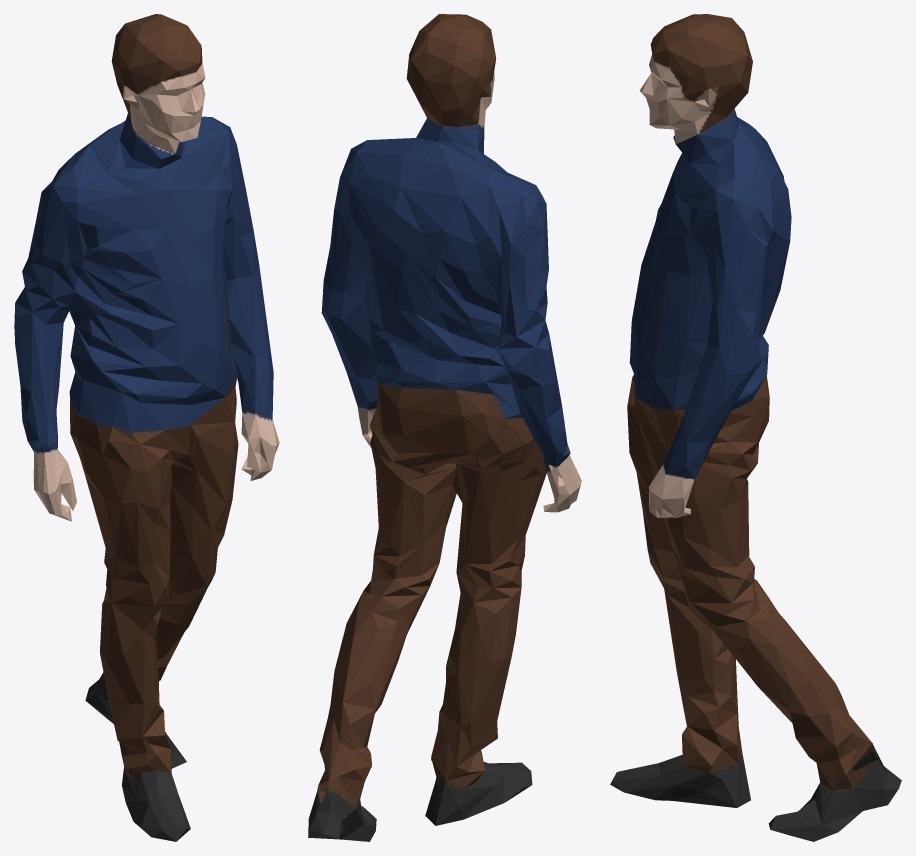
3 renders of one model, left to right at view 1: azimuth 30°, elevation 25°; view 2: azimuth 150°, elevation 25°; view 3: azimuth 270°, elevation 25°, orthographic.
Visible parts, largest first — view 1: lowpolyPeopleCasualMan_34.1; view 2: lowpolyPeopleCasualMan_34.1; view 3: lowpolyPeopleCasualMan_34.1.
Boxes of the visible parts, x1,y1,x2,y2 form: lowpolyPeopleCasualMan_34.1: (14, 14, 279, 841); lowpolyPeopleCasualMan_34.1: (308, 14, 581, 841); lowpolyPeopleCasualMan_34.1: (610, 14, 901, 841).
Size of the model in its own units: 50.98 by 164 by 54.83.
6 materials, 1 textured.
